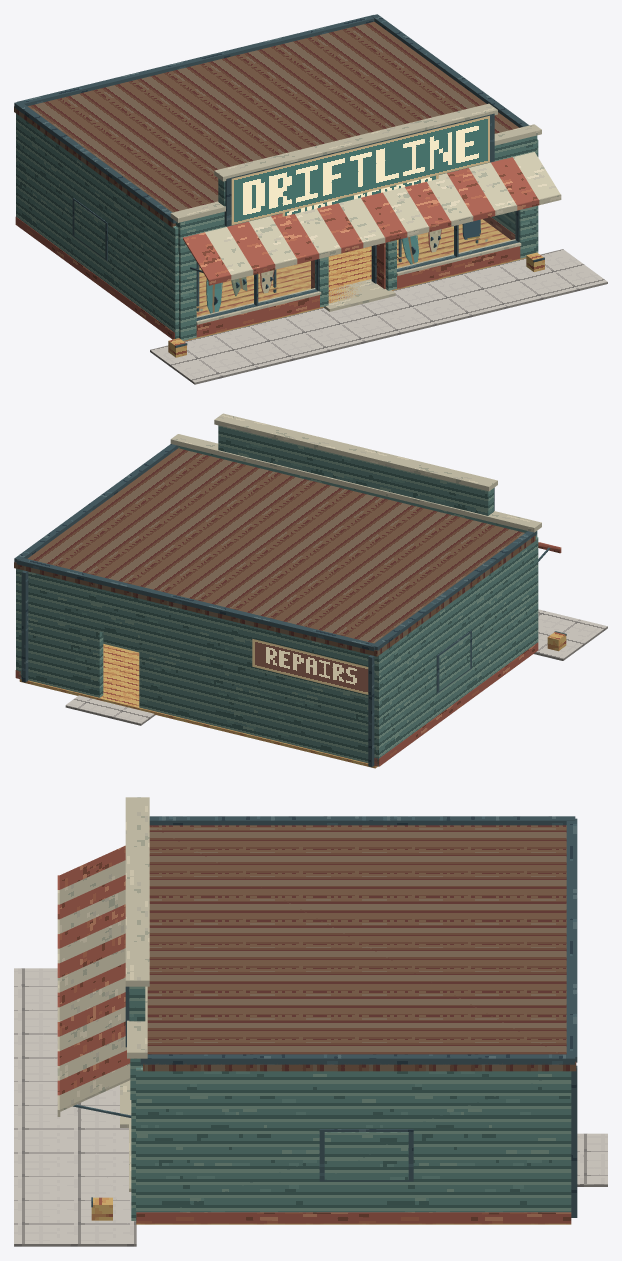
File: driftline.glb
The picture shows the model from 3 angles, top to bottom: view 1: azimuth 30°, elevation 25°; view 2: azimuth 150°, elevation 25°; view 3: azimuth 270°, elevation 25°; orthographic projection. The views are drawn at different scales.
Visible parts, largest first — view 1: shop_roof, retail_shell, Front boardwalk landing, sign_name_driftline, display_stock, sign_surf_repair, lot; view 2: shop_roof, retail_shell, sign_repairs, Front boardwalk landing, Rear service stoop; view 3: shop_roof, retail_shell, Front boardwalk landing, Rear service stoop.
Boxes of the visible parts, x1=… form: shop_roof: x1=14, y1=14, x2=561, y2=285; retail_shell: x1=15, y1=113, x2=538, y2=341; Front boardwalk landing: x1=150, y1=249, x2=607, y2=384; sign_name_driftline: x1=231, y1=115, x2=489, y2=224; display_stock: x1=196, y1=219, x2=500, y2=316; sign_surf_repair: x1=282, y1=175, x2=438, y2=216; lot: x1=168, y1=252, x2=544, y2=357; shop_roof: x1=14, y1=413, x2=561, y2=656; retail_shell: x1=15, y1=446, x2=538, y2=768; sign_repairs: x1=252, y1=639, x2=368, y2=694; Front boardwalk landing: x1=534, y1=609, x2=607, y2=660; Rear service stoop: x1=65, y1=695, x2=155, y2=725; shop_roof: x1=57, y1=797, x2=577, y2=1117; retail_shell: x1=120, y1=986, x2=577, y2=1224; Front boardwalk landing: x1=14, y1=968, x2=136, y2=1246; Rear service stoop: x1=577, y1=1133, x2=607, y2=1186.
Size of what is drawn, in the model's own units: 14.4 by 5.36 by 13.12.
11 materials, 11 textured.
